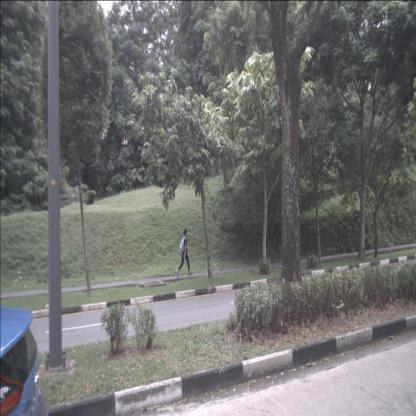human-pedestrian-adult: (176, 228, 192, 278)
vehicle-car: (0, 303, 47, 416)
